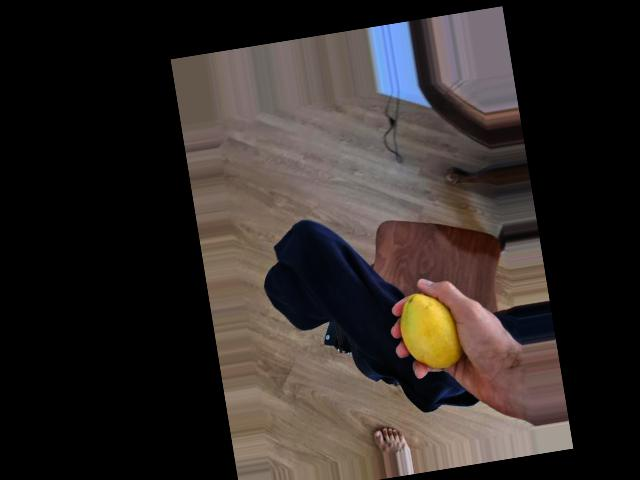lemon: (397, 288, 465, 373)
